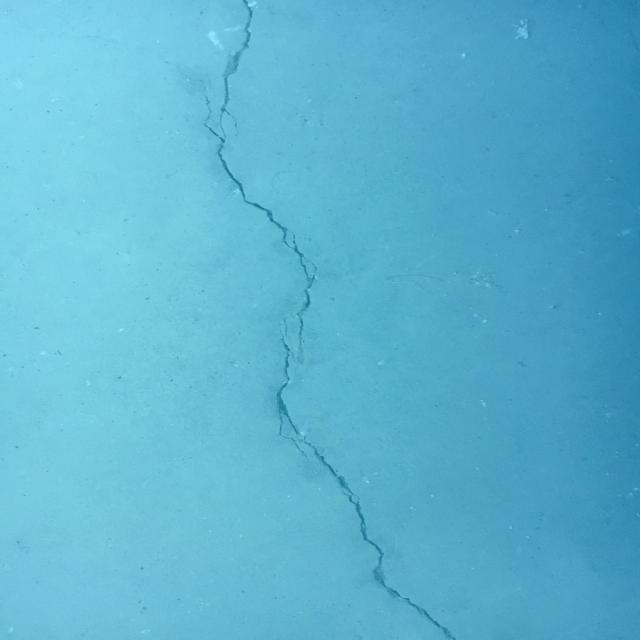crack: (203, 0, 318, 343), (303, 440, 457, 640), (276, 316, 306, 457)
